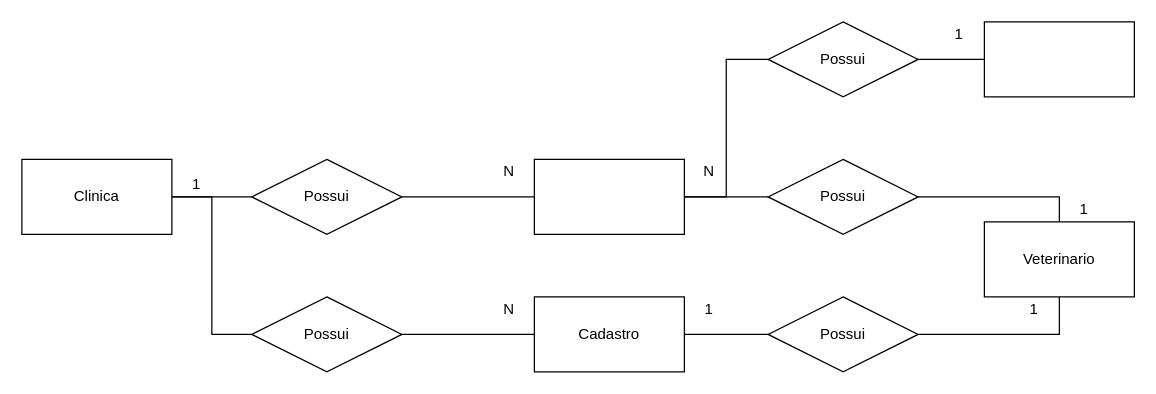
Some shapes in this 1156 by 394 pixel diagram are drawn without their labels. Here are the shapes that lost their labels. From the top down, the centre of each, then its label:
[1058,59]: Pet
[608,196]: Atendimento
